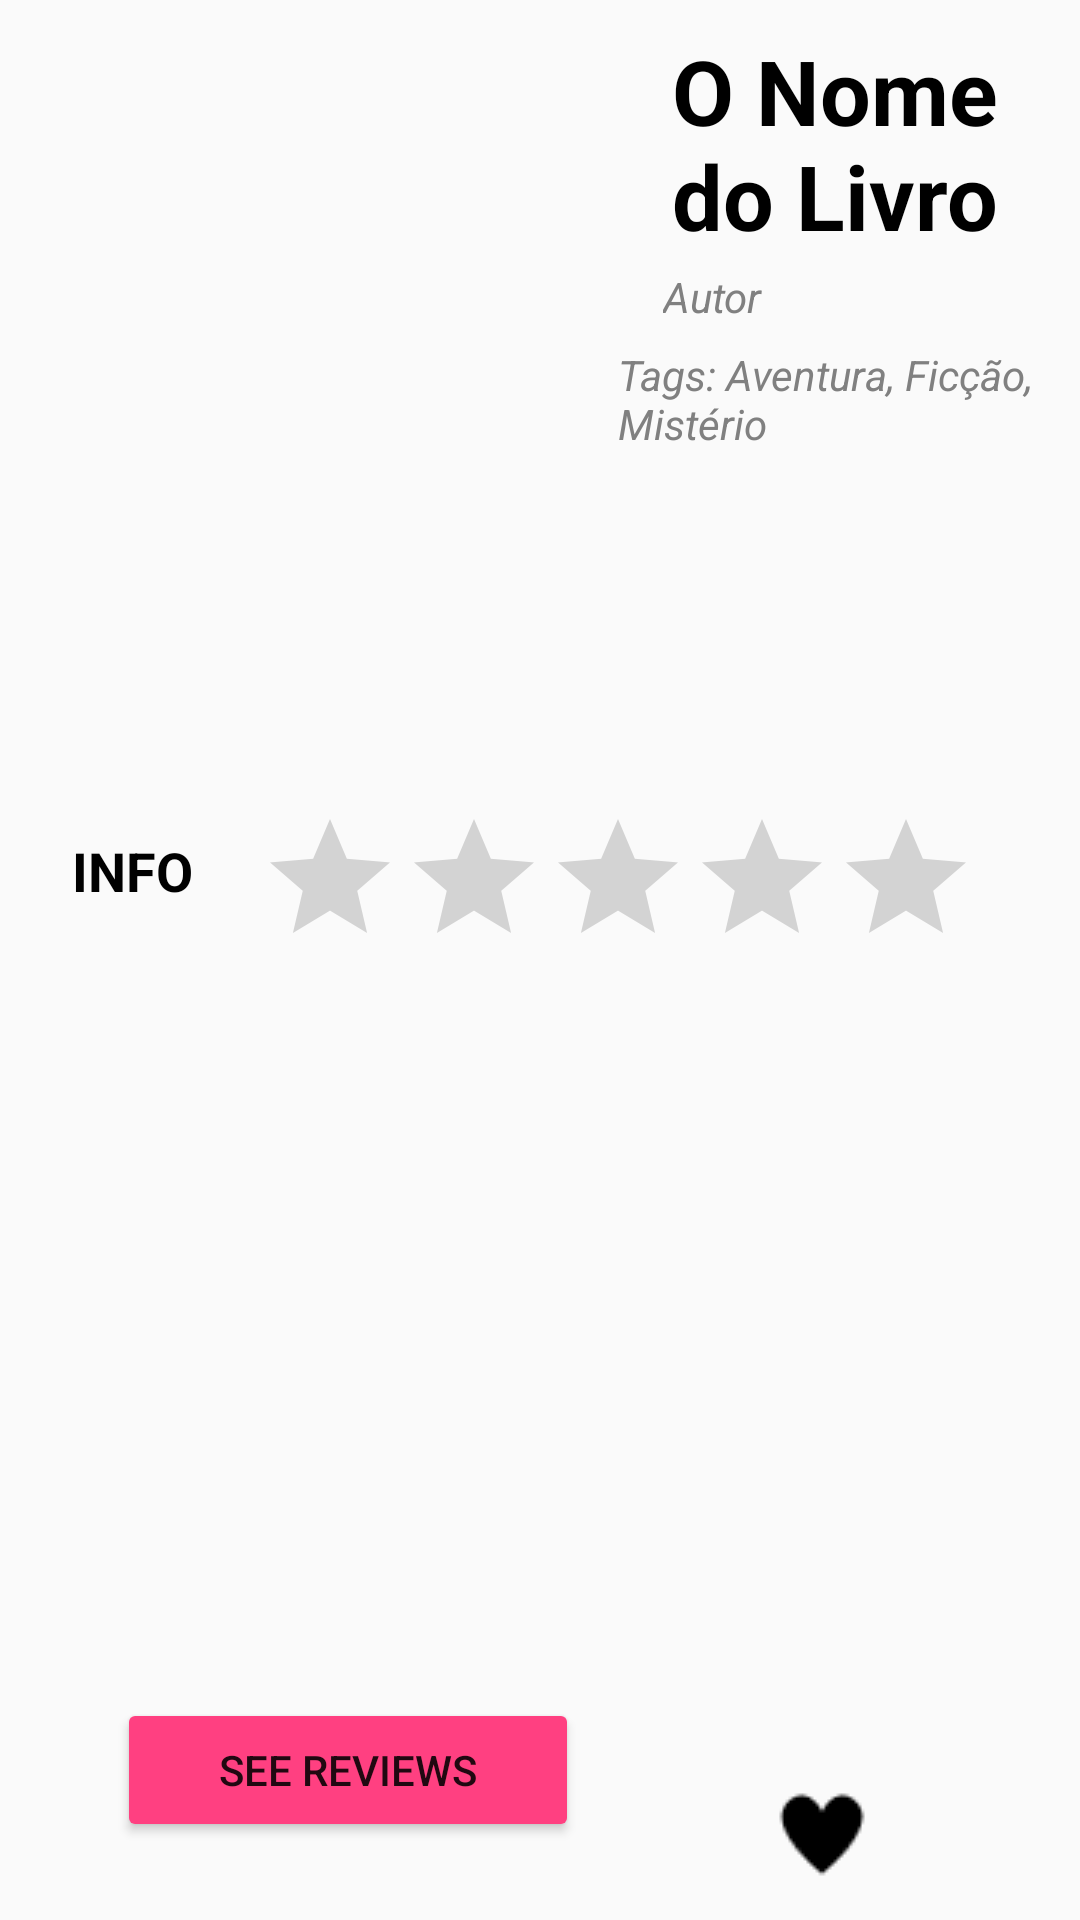

Screen size 1080 × 1920. Icon name, then its center in pixels as (x=x, y=y):
heart shape: (x=822, y=1834)
